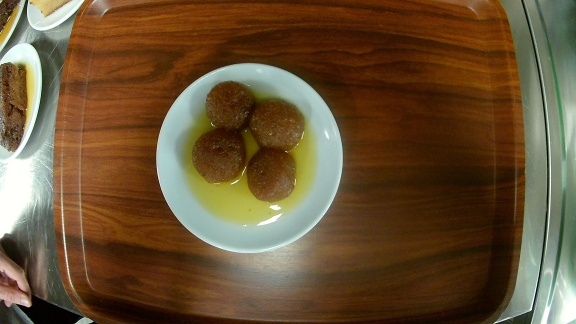kemalpasa: (155, 62, 343, 254)
